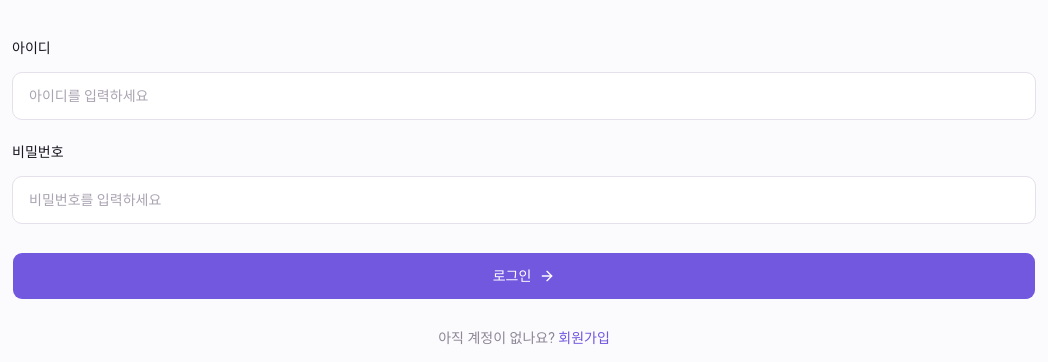
it: login API integration › posts credentials to command, stores tokens, and goes home even when a previous URL exists
This screenshot has width=1048, height=362.
Type "  driver  " into the field labelled "아이디" at (524,96), box [12,72,1036,120]
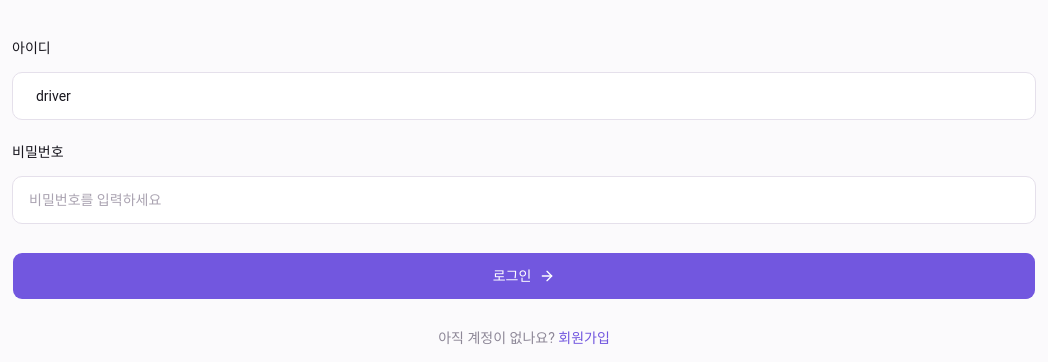
Type "password123" into the password field labelled "비밀번호" at (524,200), box [12,176,1036,224]
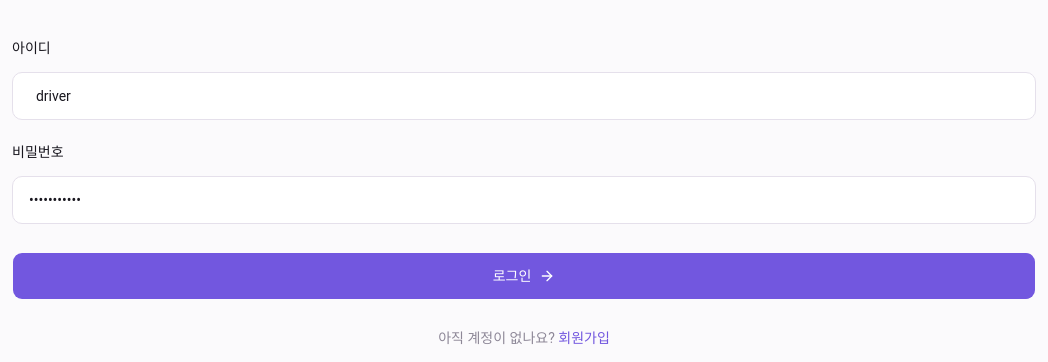
Click the button "로그인" at (524,276), box [12,252,1036,300]
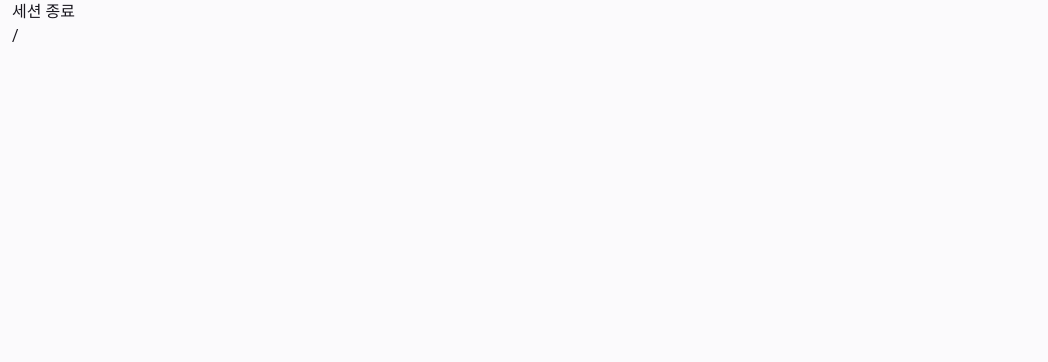
Check: the text "/" is shown, box [12,26,19,45]
